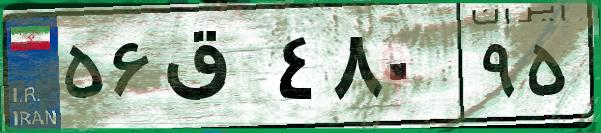0: (385, 28, 445, 110)
4: (270, 28, 330, 110)
5: (57, 26, 110, 100), (525, 38, 570, 115)
6: (110, 28, 158, 98)
8: (330, 28, 385, 110)
9: (475, 38, 525, 113)
ق: (158, 20, 270, 120)
